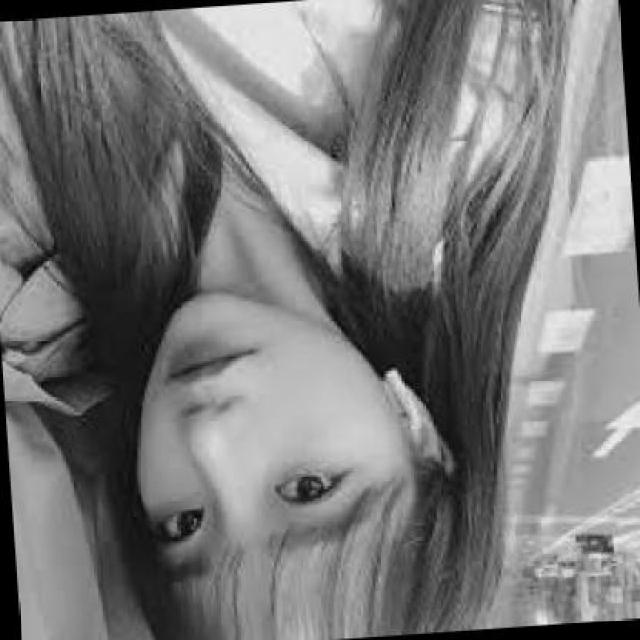earphone: (382, 335, 439, 486)
